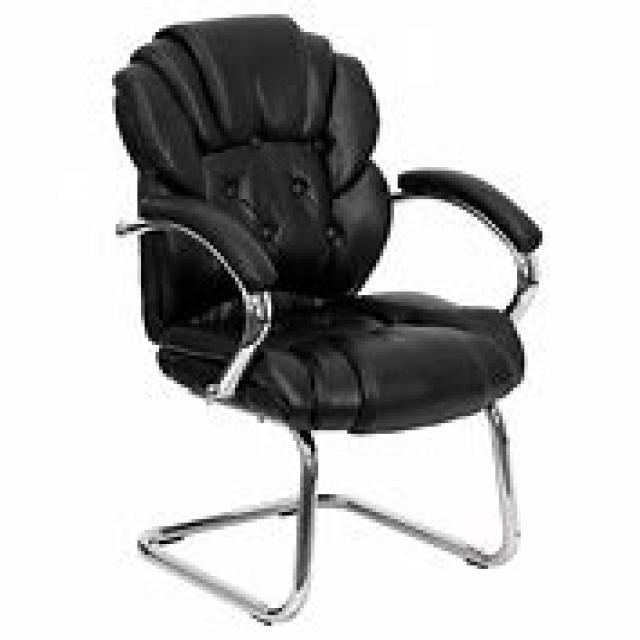chair: (108, 11, 542, 626)
